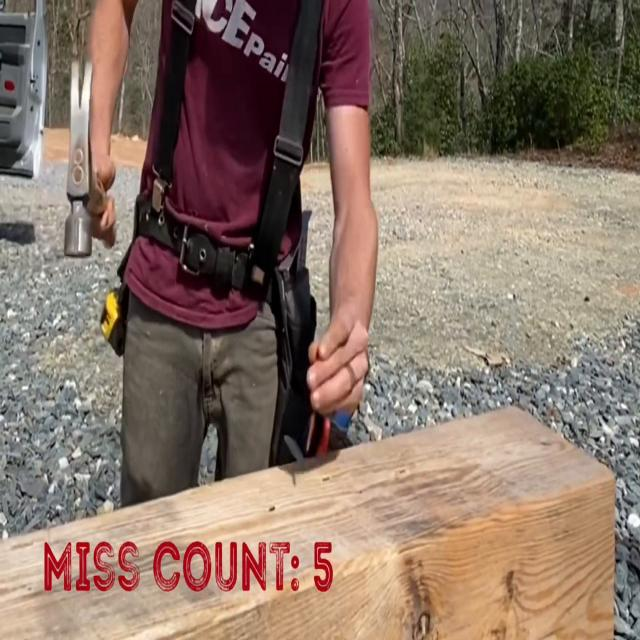hammer: (64, 62, 112, 256)
